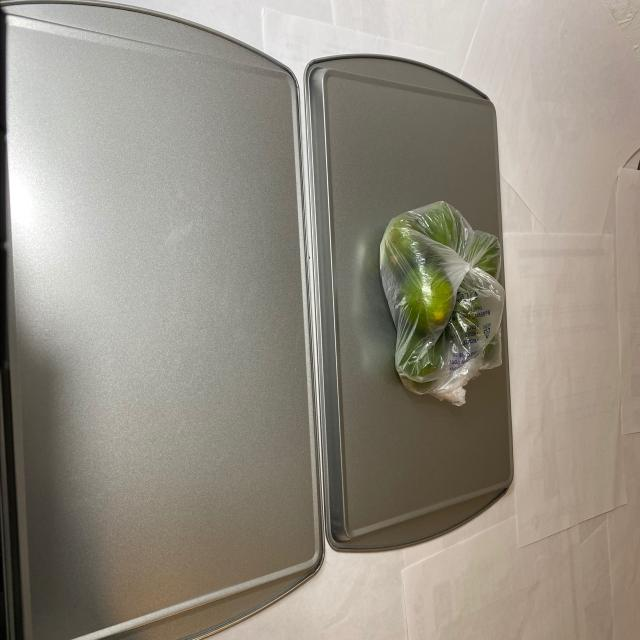lemon: (382, 209, 502, 399)
